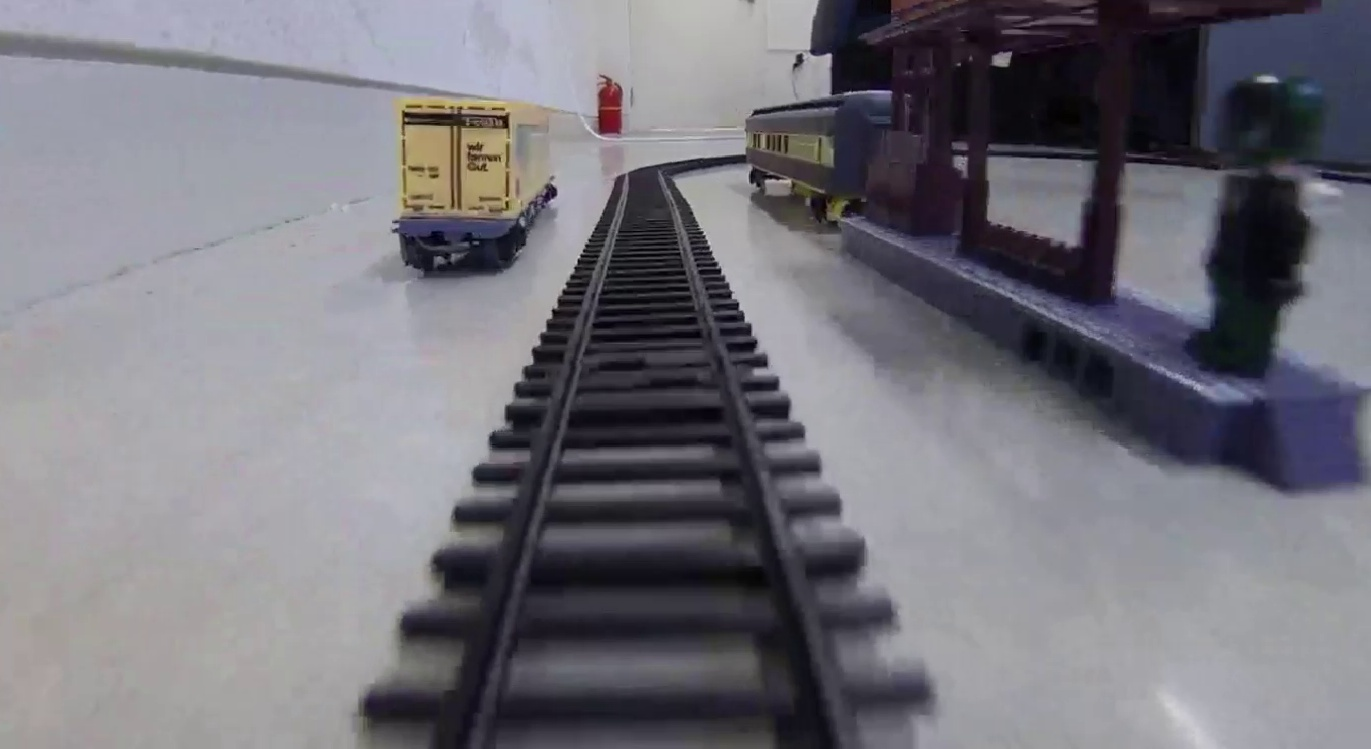people: (1200, 72, 1317, 381)
